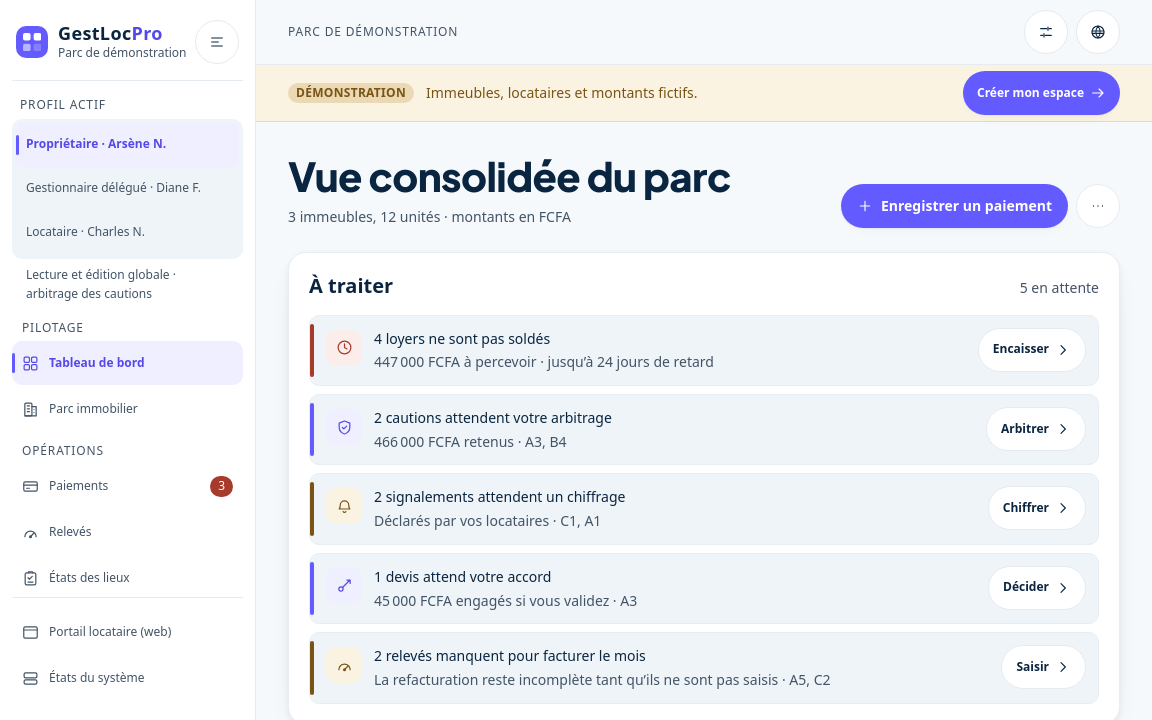
Scenario: les cours retenus › écartent un cours trop vieux, et le disent
This screenshot has width=1152, height=720.
Click the button named "Réglages : langue, devise et thème" at coordinates (1046, 32), box [1024, 10, 1068, 54]
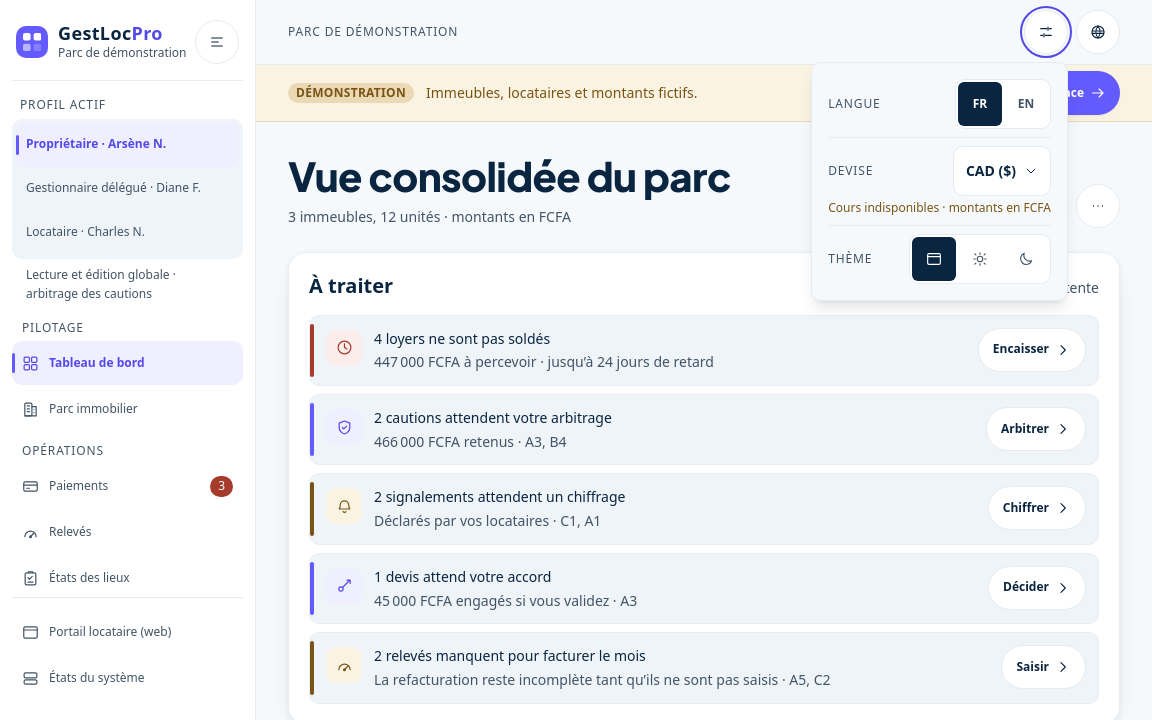
Expected: the element that starts with "Vue consolidée du parc" shows "FCFA", [288, 207, 571, 226]
Expected: the text "Cours indisponibles · montants en FCFA" is shown, [828, 200, 1051, 217]
